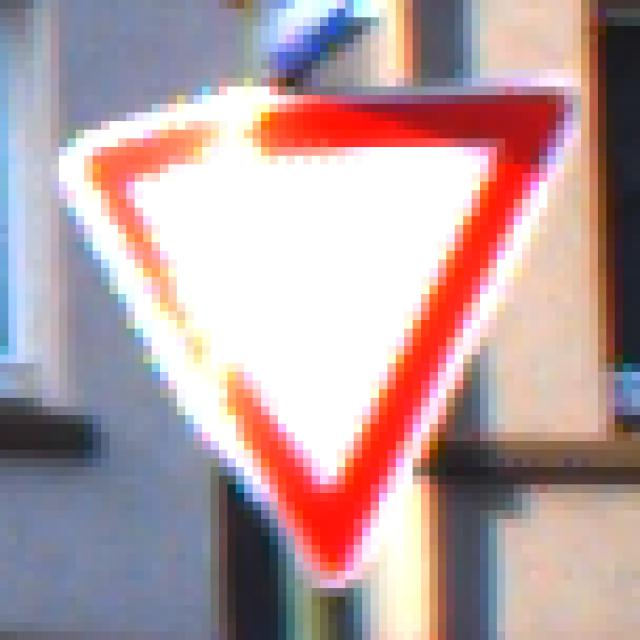Give Way: (52, 62, 591, 589)
